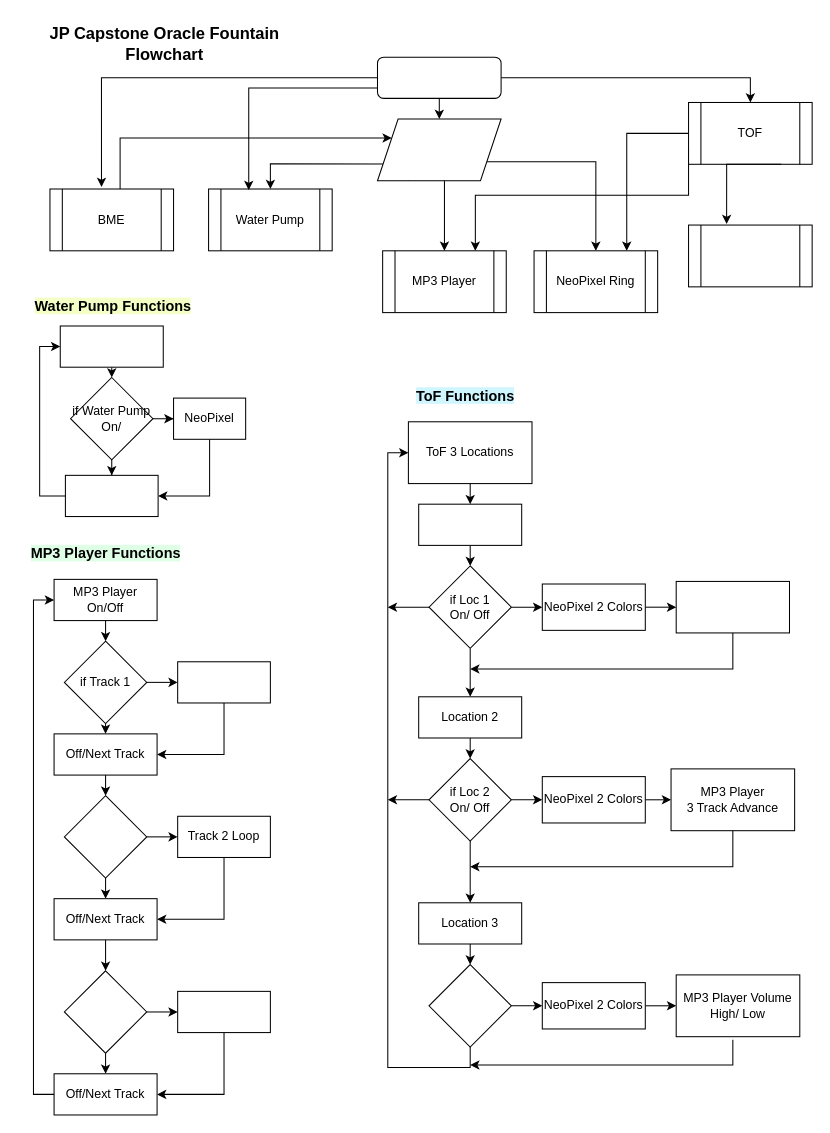
This 830x1133 diagram has some shape labels left out. The shapes that lost their labels are listed below. From the top down, each one's box as (x1, y1, x2, y2) in pixels, then its label:
(376, 56, 501, 98): Oracle Fountain initialization
(376, 118, 501, 181): Adafruit.IO Dashboard
(688, 224, 812, 287): NeoPixels
(59, 325, 163, 367): Button Sensor On/Off
(64, 474, 158, 517): Off
(418, 503, 522, 545): Location 1
(675, 580, 789, 633): NeoPixel RIng Rainbow Array
(177, 661, 270, 703): Track 1 Loop
(63, 795, 147, 878): if Track 2
(63, 970, 147, 1053): if Track 3
(177, 990, 270, 1033): Track 3 Loop
(428, 964, 511, 1047): if Loc 3 On/ Off
